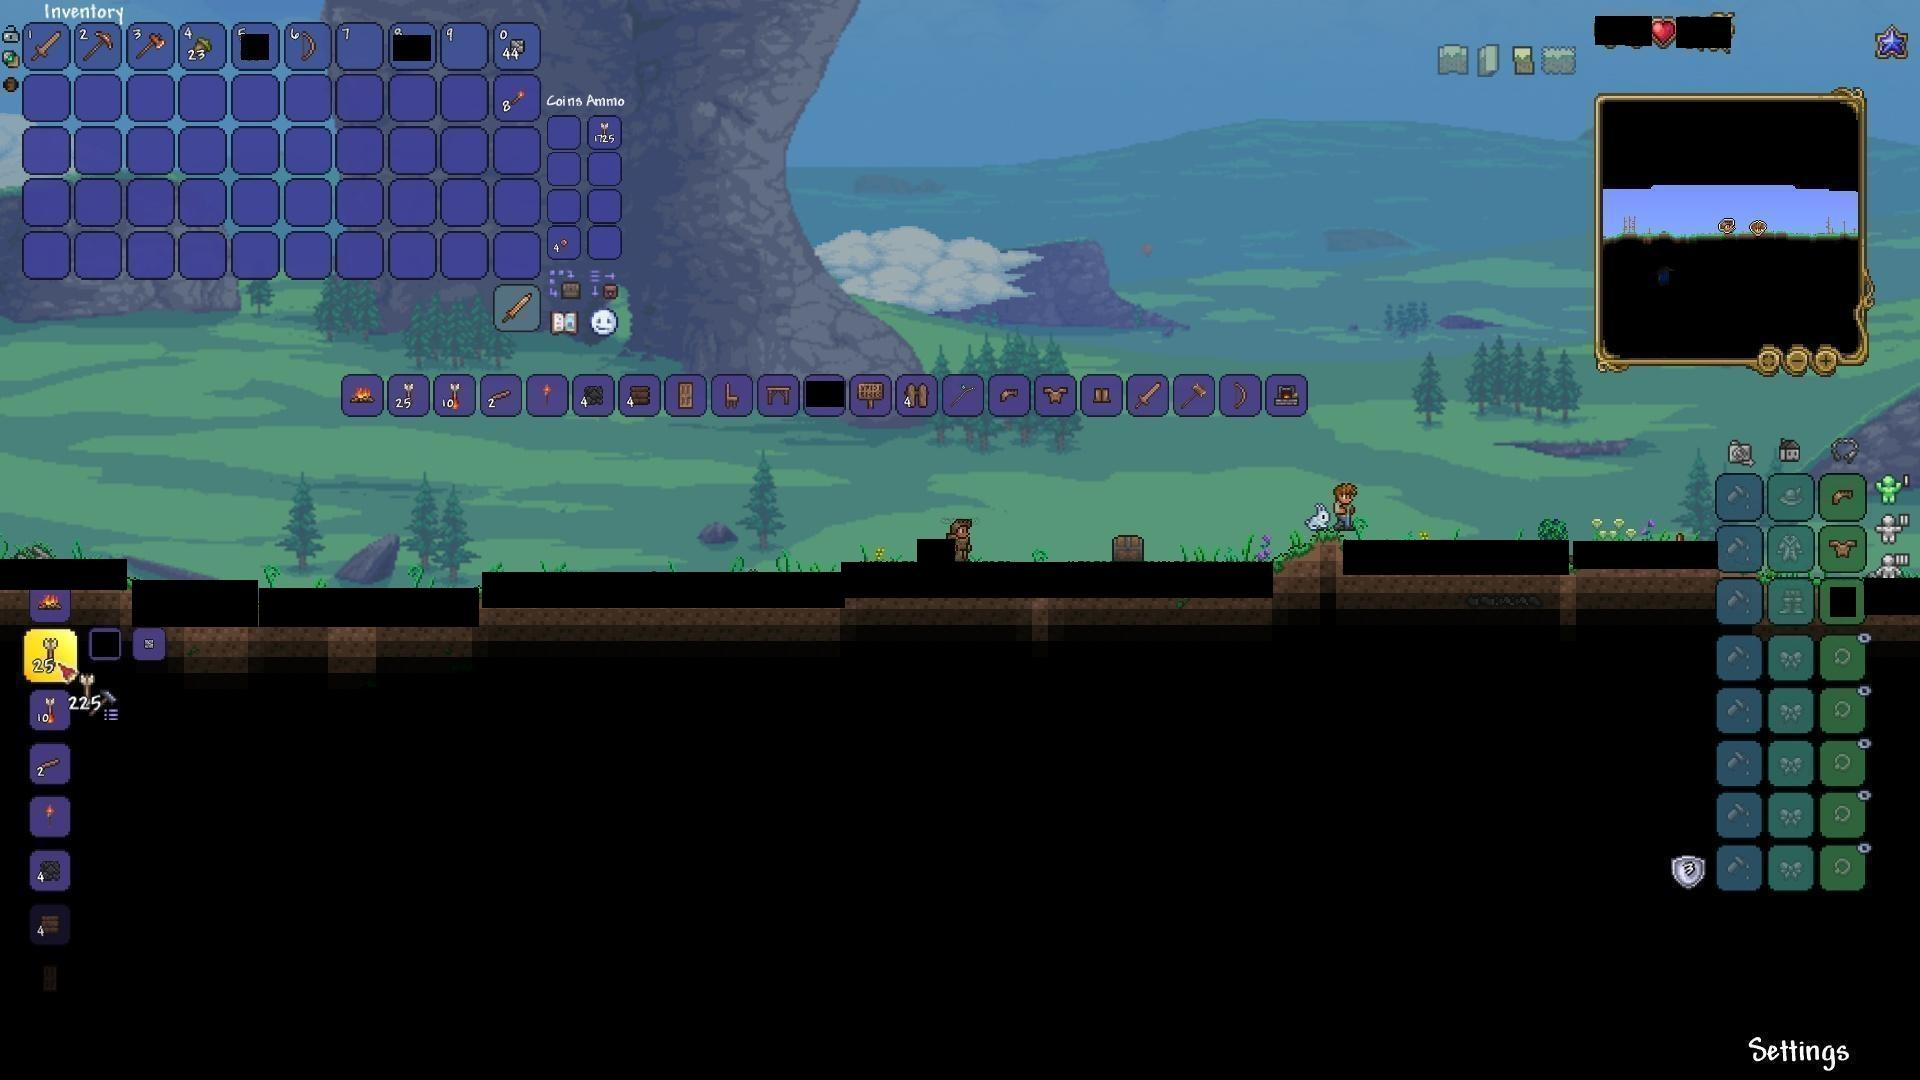breastplate: (1829, 538, 1859, 559), (1040, 386, 1069, 407)
dirt: (1276, 533, 1342, 571)
heart: (1648, 17, 1676, 47)
helmet: (1828, 483, 1859, 512), (994, 382, 1025, 410)
legs: (1091, 381, 1116, 409)
